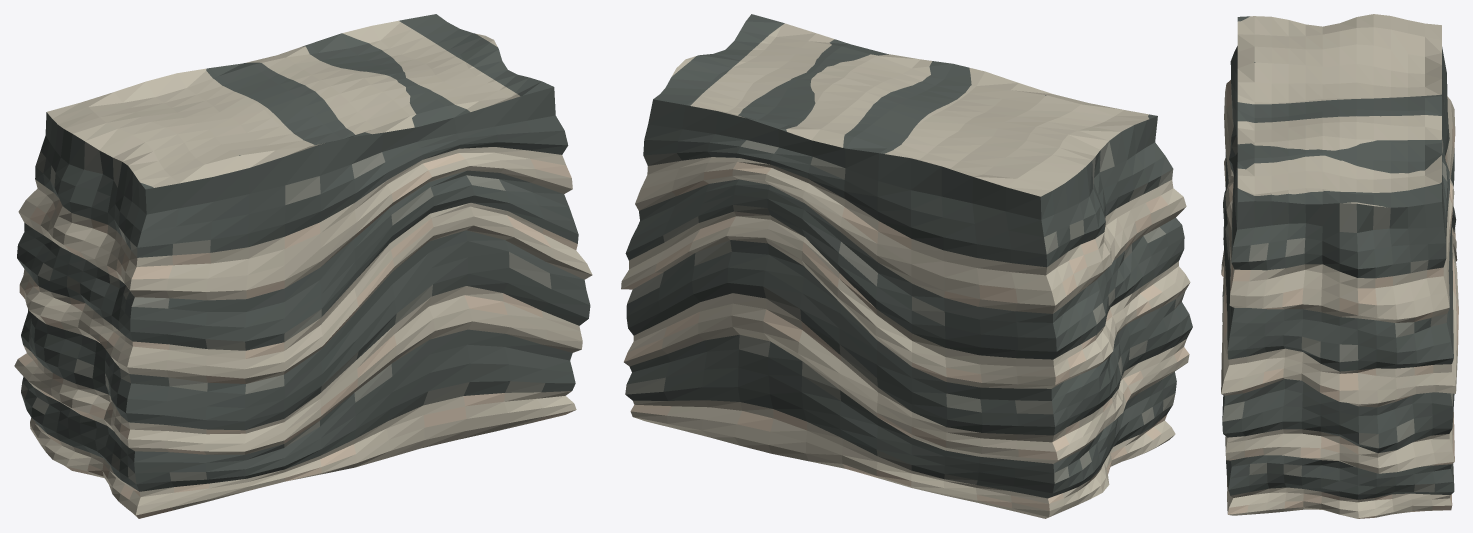
The picture shows the model from 3 angles, left to right: view 1: azimuth 30°, elevation 25°; view 2: azimuth 150°, elevation 25°; view 3: azimuth 270°, elevation 25°; orthographic projection. The views are drawn at different scales.
Parts seen in each view (by area): view 1: solid_coarse_eight_band_folded_gneiss_with_broken_cartesian_; view 2: solid_coarse_eight_band_folded_gneiss_with_broken_cartesian_; view 3: solid_coarse_eight_band_folded_gneiss_with_broken_cartesian_.
Part boxes in pixels (box(x1,y1,x2,y2)): solid_coarse_eight_band_folded_gneiss_with_broken_cartesian_: box(14, 14, 592, 518); solid_coarse_eight_band_folded_gneiss_with_broken_cartesian_: box(621, 14, 1192, 518); solid_coarse_eight_band_folded_gneiss_with_broken_cartesian_: box(1221, 14, 1458, 518).
Bounding box in the file's own units: 3.5 × 2.35 × 1.62.
